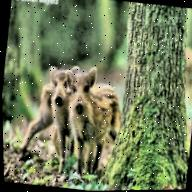boar: (54, 53, 140, 181), (35, 47, 81, 155)
